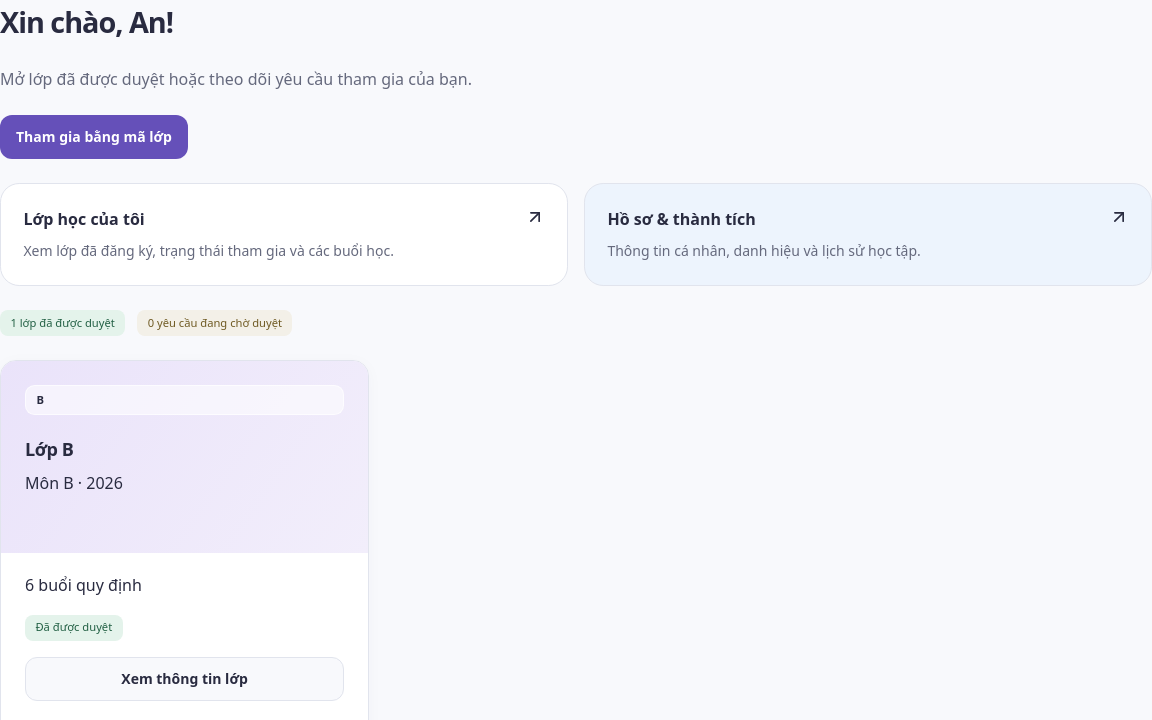
Test: keeps the student overview focused on memberships without requesting aggregate profile scores
Expected: the text "1 lớp đã được duyệt" is shown, [0, 310, 125, 336]
Click the button "Tham gia bằng mã lớp".
click(94, 137)  # box [0, 115, 188, 159]
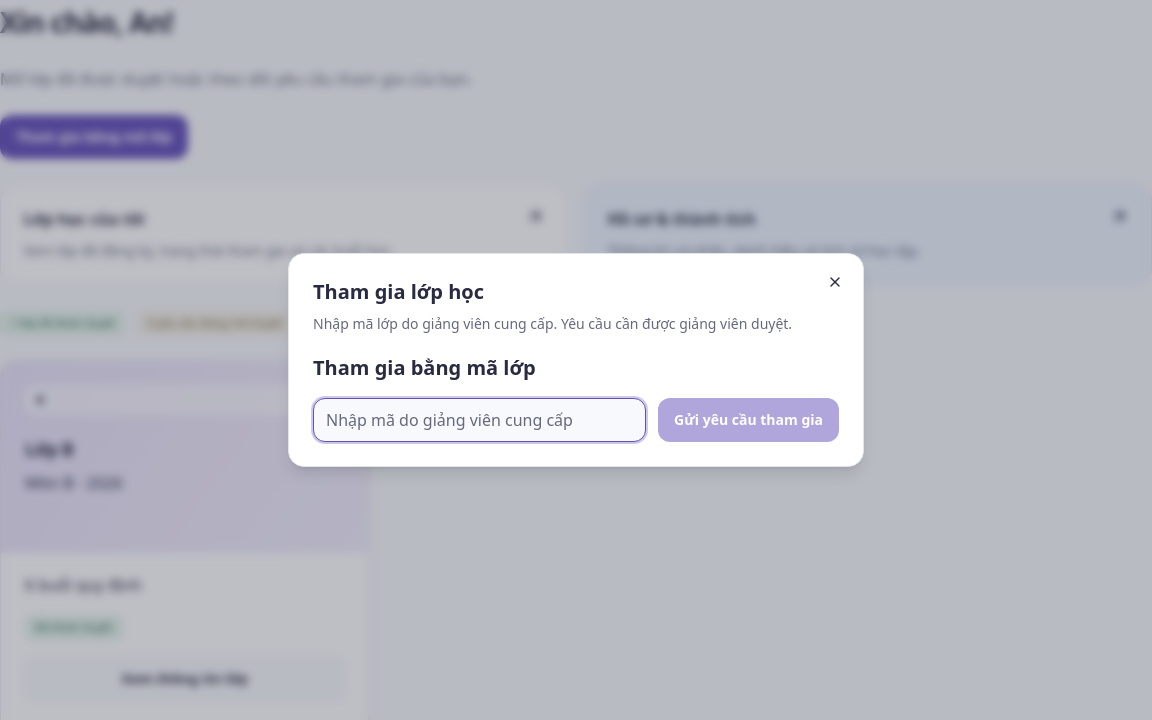
Result: the dialog is shown at [288, 253, 864, 467]
